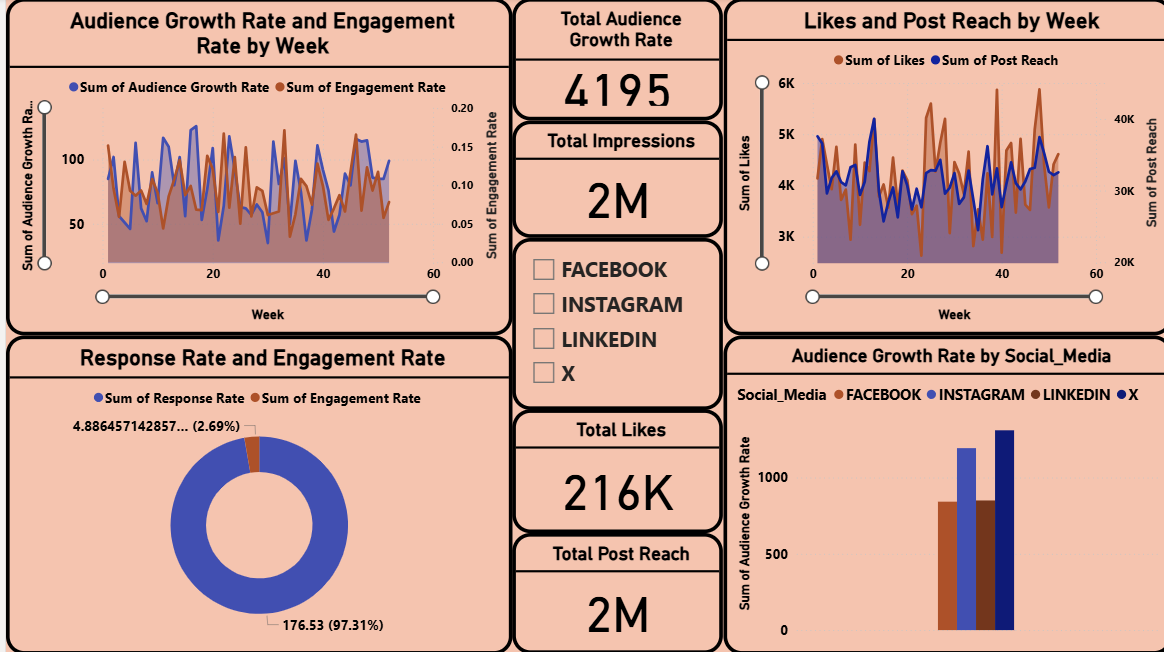

The page's visual inventory and layout, read from the dashboard file:
{"tool":"powerbi","page":{"name":"Page 1","canvas":[1280,720],"ordinal":0},"visuals":[{"type":"clusteredColumnChart","title":"Audience Growth Rate by Social_Media","fields":{"Series":["SocialMedia.Social_Media"],"Y":["Sum(SocialMedia.Audience Growth Rate)"]},"box":[787.1,370,492.9,350],"z":0},{"type":"card","title":"Total Impressions","fields":{"Values":["Sum(SocialMedia.Impressions)"]},"box":[555.7,134.3,231.4,128.6],"z":1000},{"type":"slicer","fields":{"Values":["SocialMedia.Social_Media"]},"box":[555.7,262.9,231.4,188.6],"z":2000},{"type":"card","title":"Total Likes","fields":{"Values":["Sum(SocialMedia.Likes)"]},"box":[555.7,451.4,231.4,135.7],"z":3000},{"type":"card","title":"Total Post Reach","fields":{"Values":["Sum(SocialMedia.Post Reach)"]},"box":[555.7,587.1,231.4,132.9],"z":4000},{"type":"donutChart","title":"Response Rate and Engagement Rate","fields":{"Y":["Sum(SocialMedia.Response Rate)","Sum(SocialMedia.Engagement Rate)"]},"box":[0,370,555.7,350],"z":5000},{"type":"card","title":"Total Audience Growth Rate","fields":{"Values":["Sum(SocialMedia.Audience Growth Rate)"]},"box":[555.7,0,231.4,134.3],"z":6000},{"type":"areaChart","title":"Audience Growth Rate and Engagement Rate by Week","fields":{"Category":["SocialMedia.Week"],"Y":["Sum(SocialMedia.Audience Growth Rate)"],"Y2":["Sum(SocialMedia.Engagement Rate)"]},"box":[0,0,555.7,370],"z":7000},{"type":"lineChart","title":"Likes and Post Reach by Week","fields":{"Category":["SocialMedia.Week"],"Y":["Sum(SocialMedia.Likes)"],"Y2":["Sum(SocialMedia.Post Reach)"]},"box":[787.1,0,492.9,370],"z":8000}]}

Visuals, with their boxes in screenshot pixels (x1, y1, x2, y2), scaled from the page's 1280x720 canvas onto the 1164x652 screenshot:
"Audience Growth Rate by Social_Media" clusteredColumnChart: {"x1": 716, "y1": 335, "x2": 1163, "y2": 651}
"Total Impressions" card: {"x1": 505, "y1": 122, "x2": 716, "y2": 238}
slicer - SocialMedia.Social_Media: {"x1": 505, "y1": 238, "x2": 716, "y2": 409}
"Total Likes" card: {"x1": 505, "y1": 409, "x2": 716, "y2": 532}
"Total Post Reach" card: {"x1": 505, "y1": 532, "x2": 716, "y2": 651}
"Response Rate and Engagement Rate" donutChart: {"x1": 0, "y1": 335, "x2": 505, "y2": 651}
"Total Audience Growth Rate" card: {"x1": 505, "y1": 0, "x2": 716, "y2": 122}
"Audience Growth Rate and Engagement Rate by Week" areaChart: {"x1": 0, "y1": 0, "x2": 505, "y2": 335}
"Likes and Post Reach by Week" lineChart: {"x1": 716, "y1": 0, "x2": 1163, "y2": 335}
